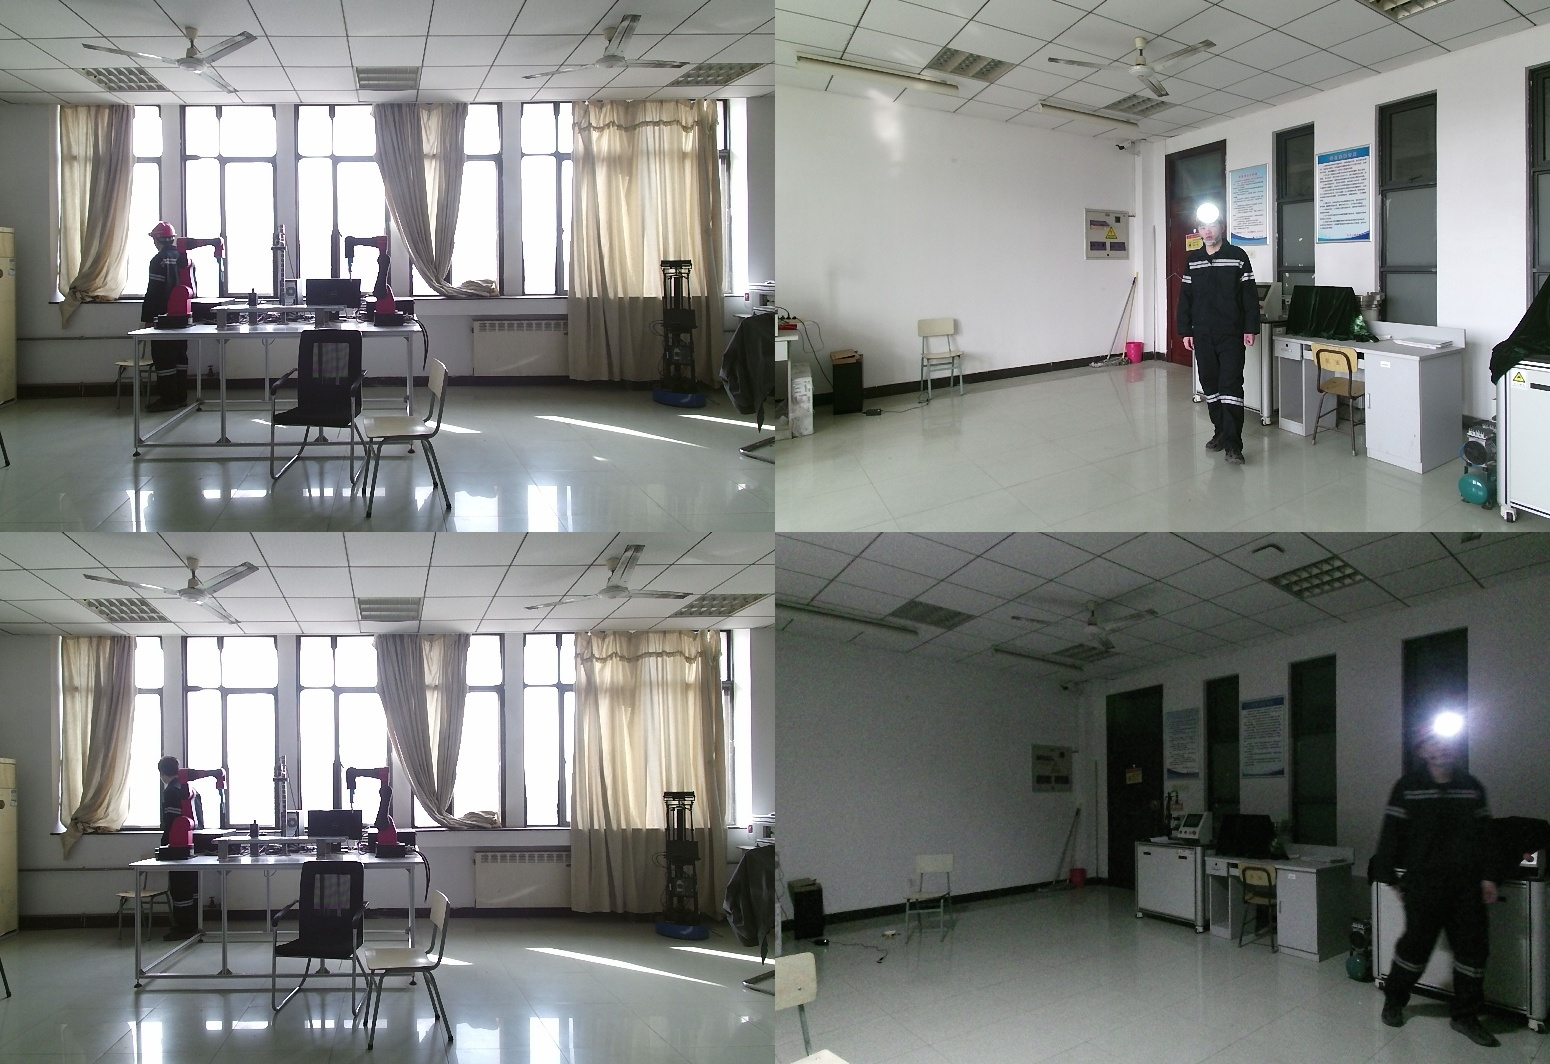person: (1390, 715, 1519, 1043), (1177, 204, 1272, 469), (155, 754, 208, 946), (140, 222, 190, 423)
